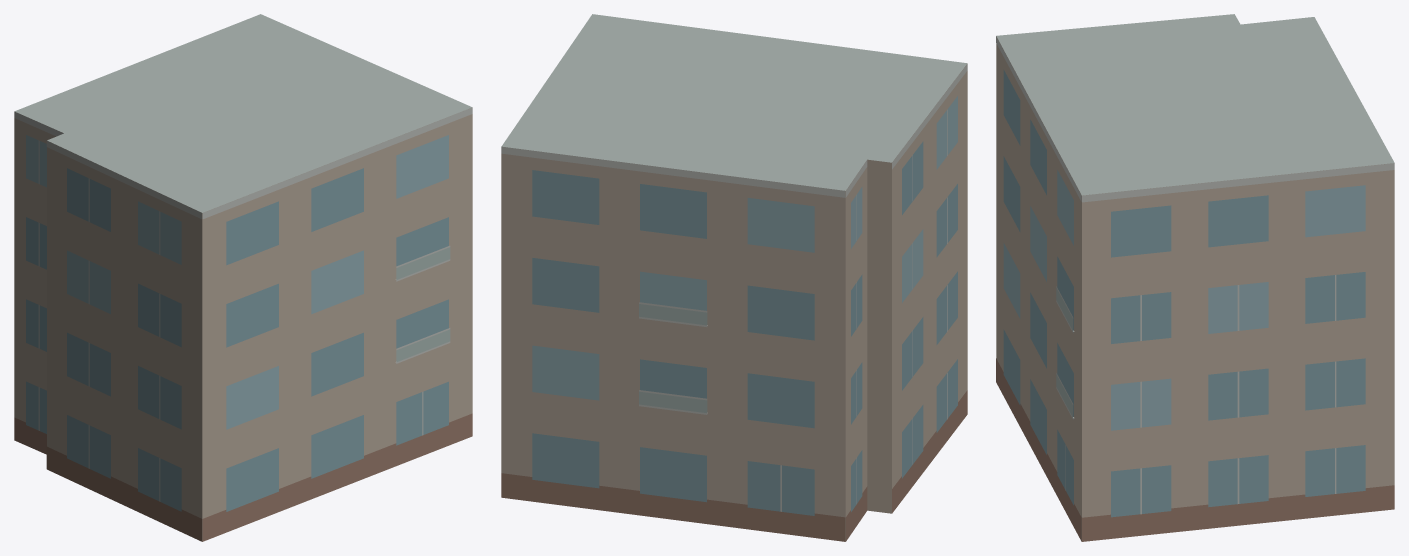
The model's file is survey-upis-33008893.glb.
3 renders of one model, left to right at view 1: azimuth 30°, elevation 25°; view 2: azimuth 150°, elevation 25°; view 3: azimuth 270°, elevation 25°, orthographic. The views are drawn at different scales.
Visible parts, largest first — view 1: survey-upis-33008893.tmp; view 2: survey-upis-33008893.tmp; view 3: survey-upis-33008893.tmp.
Part boxes in pixels (x1=…): survey-upis-33008893.tmp: x1=14, y1=14, x2=472, y2=541; survey-upis-33008893.tmp: x1=501, y1=14, x2=967, y2=541; survey-upis-33008893.tmp: x1=996, y1=14, x2=1394, y2=541.
Size of the model in its own units: 13.72 by 12.2 by 12.74.
